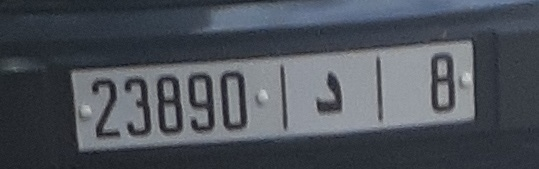0: (217, 67, 250, 135)
2: (88, 74, 118, 141)
3: (122, 73, 153, 139)
8: (426, 46, 464, 116), (155, 70, 183, 136)
9: (185, 69, 215, 136)
d: (310, 65, 359, 124)
